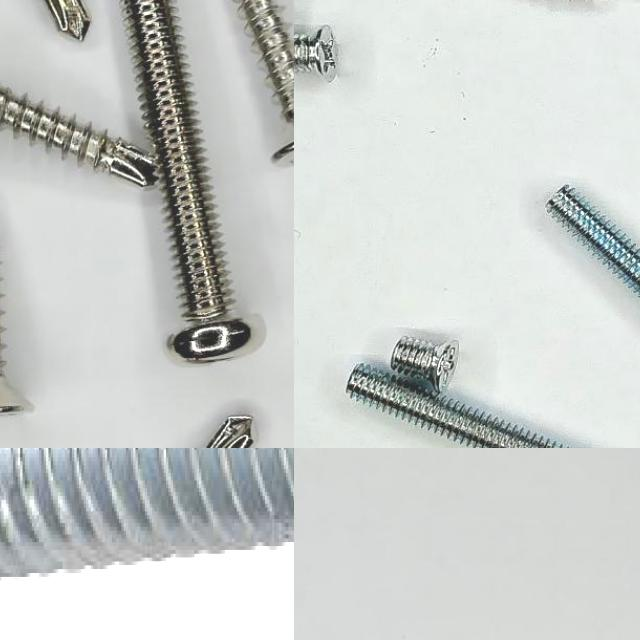Screw: (121, 0, 251, 363), (0, 448, 294, 582), (346, 365, 568, 448), (0, 85, 157, 187), (548, 188, 640, 295), (236, 0, 294, 124), (391, 337, 459, 393), (294, 25, 336, 81), (45, 0, 90, 41), (207, 417, 252, 448)
